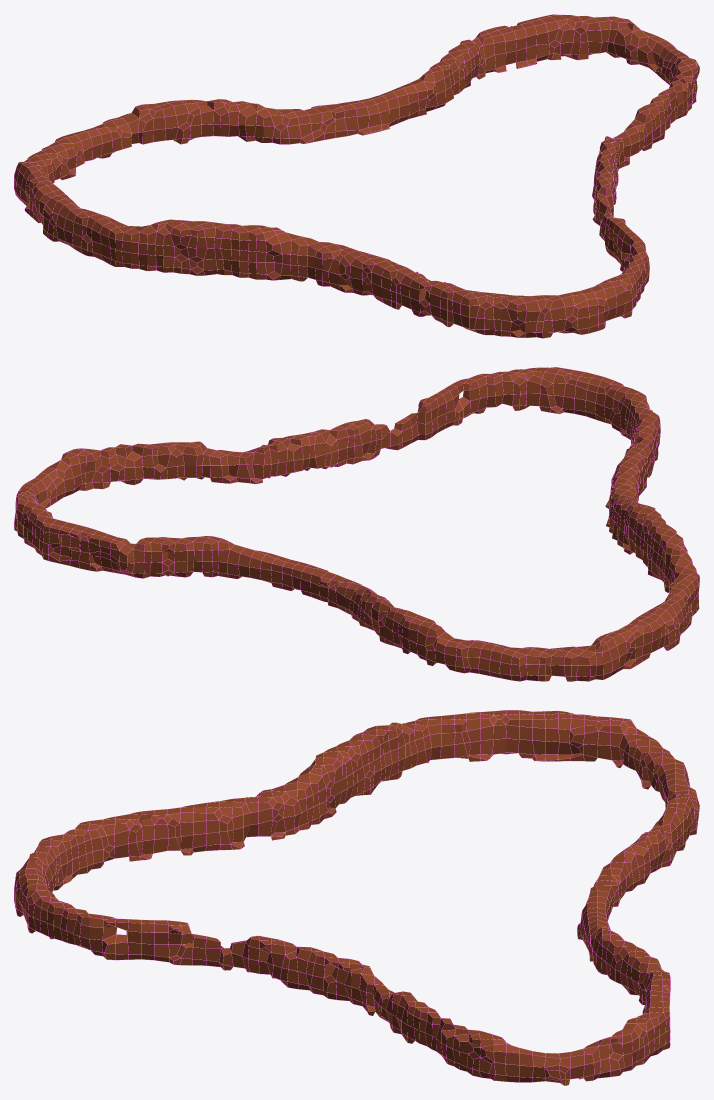
Rendered from Arena_V03_mountain1.fbx.
3 renders of one model, top to bottom at view 1: azimuth 30°, elevation 25°; view 2: azimuth 150°, elevation 25°; view 3: azimuth 270°, elevation 25°, orthographic. The views are drawn at different scales.
Visible parts, largest first — view 1: Arena_3_BG mountain_1; view 2: Arena_3_BG mountain_1; view 3: Arena_3_BG mountain_1.
Boxes of the visible parts, box(x1,y1,x2,y2) form: Arena_3_BG mountain_1: box(14, 14, 699, 338); Arena_3_BG mountain_1: box(14, 367, 699, 681); Arena_3_BG mountain_1: box(14, 710, 699, 1085).
Bounding box in the file's own units: 35249 × 2537 × 29813.
